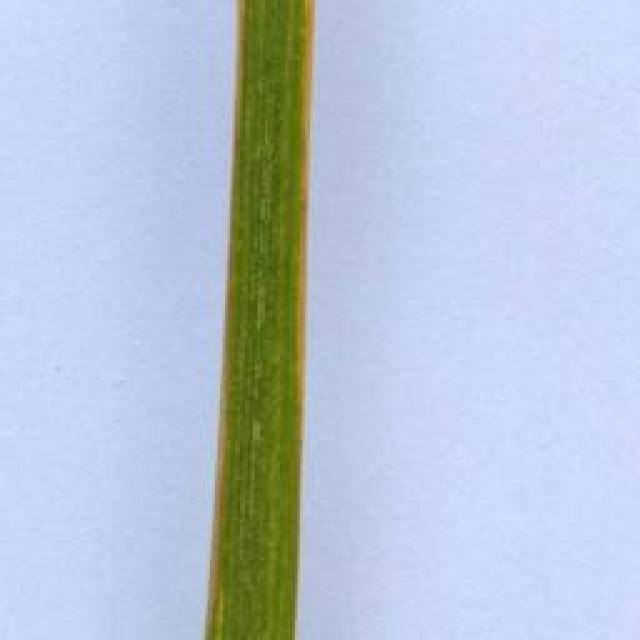Bacterial_Blight: (192, 0, 256, 640), (282, 2, 324, 453)
